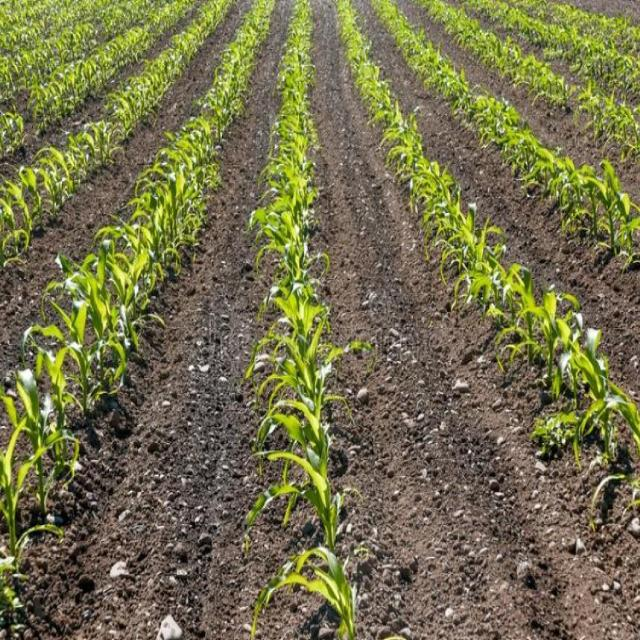row: (312, 0, 640, 640), (9, 2, 302, 640), (354, 2, 640, 402), (0, 0, 250, 412), (394, 0, 640, 209), (0, 0, 215, 209), (454, 0, 640, 116)
